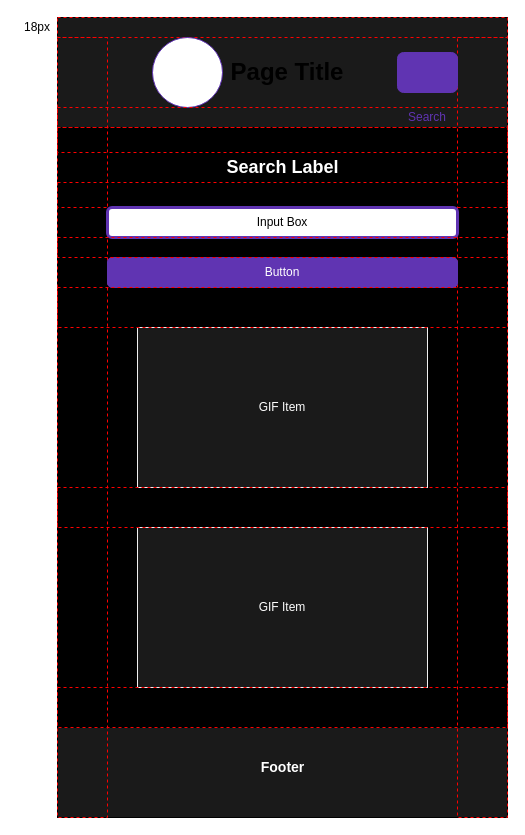
Some shapes in this 525 by 835 pixel diagram are drawn without their labels. Each missing label, with the centre of its shape:
"Logo" belongs at pixel 187 72.
"Menu" belongs at pixel 427 72.
